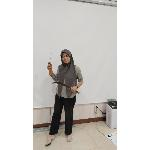Golok: (49, 78, 83, 98)
